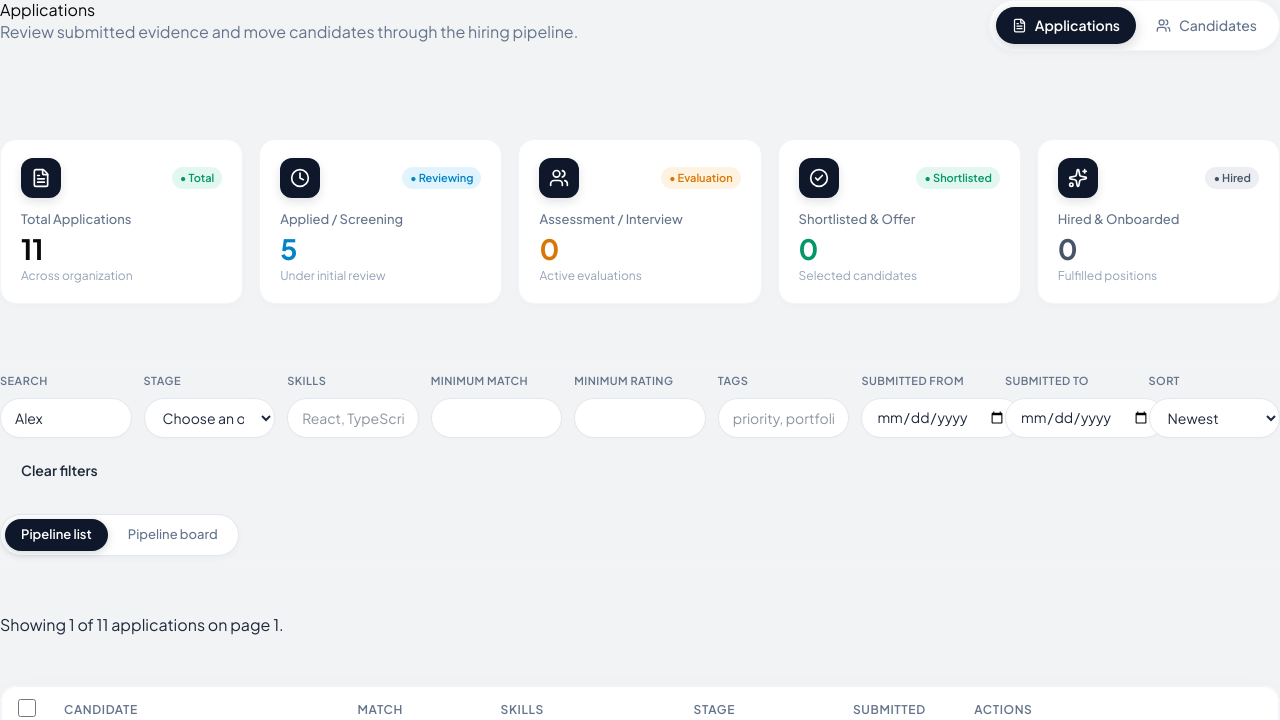
Test: applications workspace › keeps view and filters in URL and renders the same record on board
Click the button "Pipeline board" at point(173, 535), box [112,519,234,551]
(page scrolled)
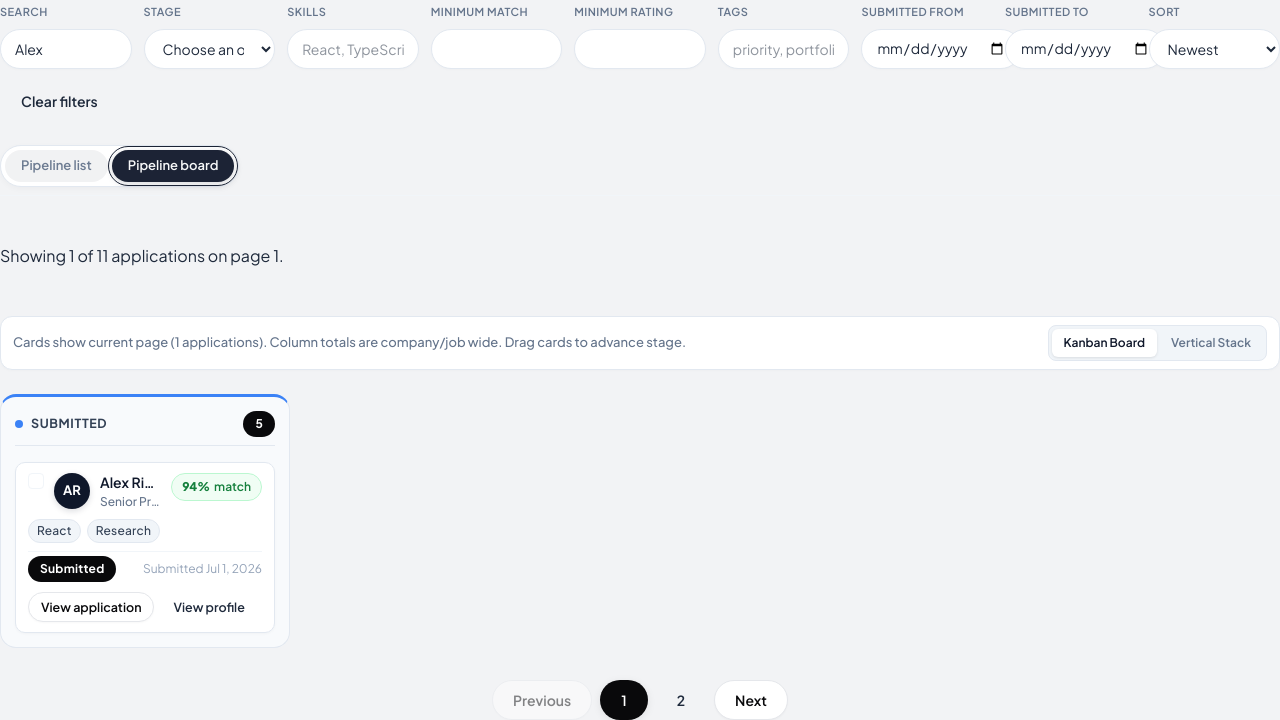
Expected: the element named "Pipeline board" shows "Alex Rivera", [100,473,173,491]
